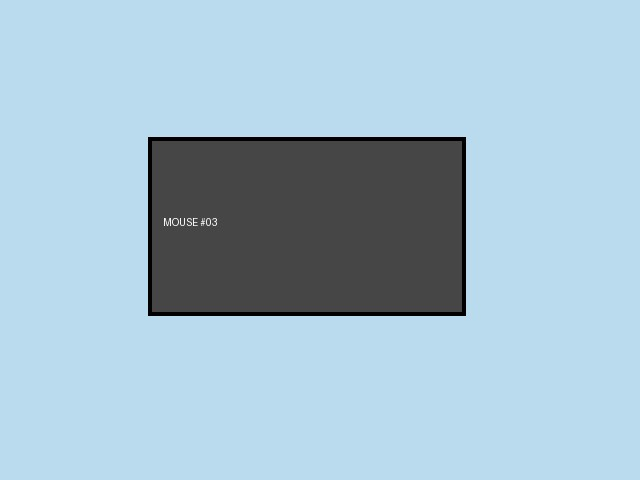mouse: (148, 137, 465, 315)
